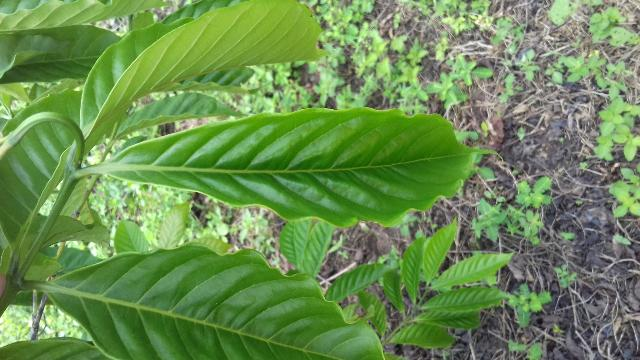healthy: (85, 102, 510, 228)
